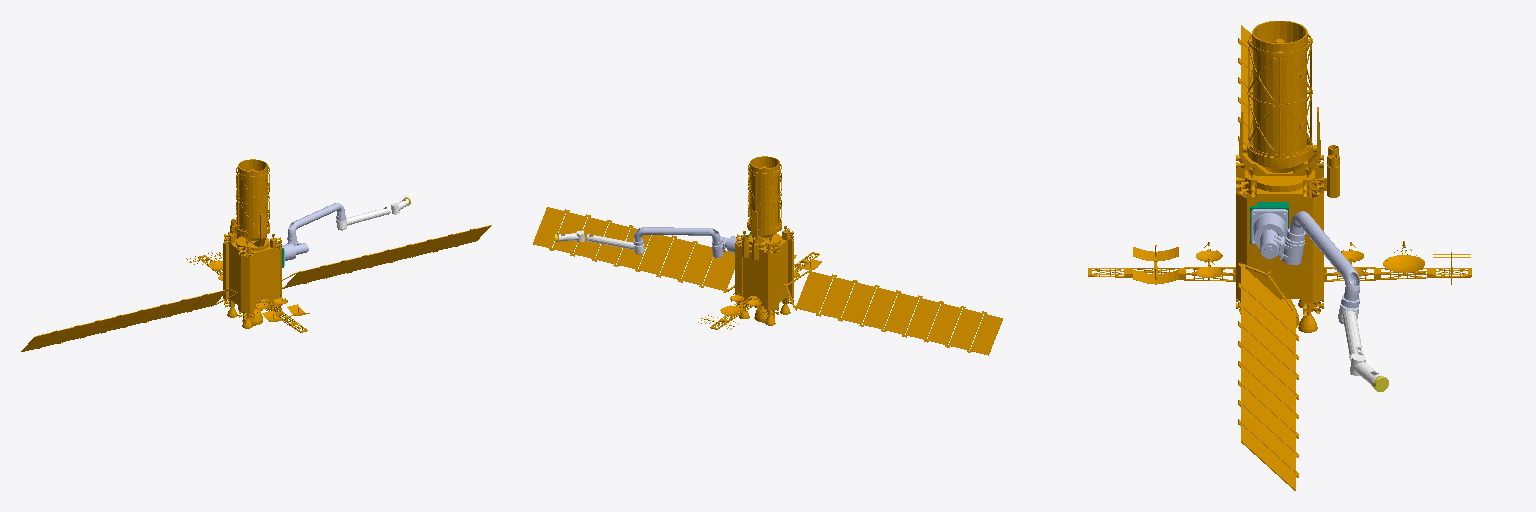
The robot description file, URDF, robot "satellite_sb1__starlink_sldasm9":
<?xml version='1.0' encoding='utf-8'?>
<robot name="satellite_sb1__starlink_sldasm9">
  <link name="base_link">
    <visual>
      <geometry>
        <mesh filename="../satellites/satellite_sb1/satellite.stl" />
      </geometry>
    </visual>
    <collision>
      <geometry>
        <mesh filename="../satellites/satellite_sb1/satellite.stl" />
      </geometry>
    </collision>
  </link>
  <link name="satellite_sb1_mount" />
  <joint name="satellite_mount_fixed" type="fixed">
    <parent link="base_link" />
    <child link="satellite_sb1_mount" />
    <origin xyz="0.3630675039246468 -0.08451072736787024 0.2428048142333857" rpy="3.141592653589793 -1.5707963267948963 0.0" />
  </joint>
  <link name="mount_support">
    <visual>
      <geometry>
        <mesh filename="../satellites/satellite_sb1/mount_support.stl" />
      </geometry>
    </visual>
    <collision>
      <geometry>
        <mesh filename="../satellites/satellite_sb1/mount_support.stl" />
      </geometry>
    </collision>
  </link>
  <joint name="support_fixed" type="fixed">
    <parent link="satellite_sb1_mount" />
    <child link="mount_support" />
    <origin xyz="0 0 0" rpy="0 0 0" />
  </joint>
  <joint name="arm_adapter_fixed" type="fixed">
    <parent link="satellite_sb1_mount" />
    <child link="starlink_space_manipulator_base_link" />
    <origin xyz="0.009087204933166504 0.008519247174263 0.16000000119209293" rpy="-1.5707963267948966 0 0.0" />
  </joint>
  <link name="starlink_space_manipulator_base_link">
    <inertial>
      <origin xyz="-0.00908719924946466 0.0225428225681148 -0.00851924929637313" rpy="0 0 0" />
      <mass value="8.66024015898073" />
      <inertia ixx="0.0960303512697639" ixy="1.65511904636803E-18" ixz="6.22039820639877E-19" iyy="0.103454922260914" iyz="-9.68471289978311E-19" izz="0.0960303512697639" />
    </inertial>
    <visual>
      <origin xyz="0 0 0" rpy="0 0 0" />
      <geometry>
        <mesh filename="../arms/starlink_sldasm9/meshes/starlink_space_manipulator_base_link.STL" />
      </geometry>
      <material name="">
        <color rgba="0.792156862745098 0.819607843137255 0.933333333333333 1" />
      </material>
    </visual>
    <collision>
      <origin xyz="0 0 0" rpy="0 0 0" />
      <geometry>
        <mesh filename="../arms/starlink_sldasm9/meshes/starlink_space_manipulator_base_link.STL" />
      </geometry>
    </collision>
  </link>
  <link name="starlink_space_manipulator_Shoulder_link_1">
    <inertial>
      <origin xyz="-0.000399471745595769 -0.100006574194712 -0.17423940484461" rpy="0 0 0" />
      <mass value="5.16309216784981" />
      <inertia ixx="0.0524543852135592" ixy="0.00348154867667969" ixz="6.96526910910627E-05" iyy="0.0306595326318824" iyz="-0.00056674368052247" izz="0.0439979075615329" />
    </inertial>
    <visual>
      <origin xyz="0 0 0" rpy="0 0 0" />
      <geometry>
        <mesh filename="../arms/starlink_sldasm9/meshes/starlink_space_manipulator_Shoulder_link_1.STL" />
      </geometry>
      <material name="">
        <color rgba="0.792156862745098 0.819607843137255 0.933333333333333 1" />
      </material>
    </visual>
    <collision>
      <origin xyz="0 0 0" rpy="0 0 0" />
      <geometry>
        <mesh filename="../arms/starlink_sldasm9/meshes/starlink_space_manipulator_Shoulder_link_1.STL" />
      </geometry>
    </collision>
  </link>
  <joint name="starlink_space_manipulator_Shoulder_link_1_yaw" type="revolute">
    <origin xyz="-0.0090872 -0.065 -0.0085192" rpy="1.5708 -0.15574 3.1416" />
    <parent link="starlink_space_manipulator_base_link" />
    <child link="starlink_space_manipulator_Shoulder_link_1" />
    <axis xyz="0 0 -1" />
    <limit lower="-3.14" upper="3.14" effort="0" velocity="0" />
  </joint>
  <link name="starlink_space_manipulator_Upper_arm_Link_1">
    <inertial>
      <origin xyz="0.402106341472203 -0.696465272634528 -0.170177523085579" rpy="0 0 0" />
      <mass value="5.05309869040685" />
      <inertia ixx="0.388719013133801" ixy="0.210155896498943" ixz="9.30829370680679E-08" iyy="0.146049057575642" iyz="1.71830458004218E-07" izz="0.500677708275447" />
    </inertial>
    <visual>
      <origin xyz="0 0 0" rpy="0 0 0" />
      <geometry>
        <mesh filename="../arms/starlink_sldasm9/meshes/starlink_space_manipulator_Upper_arm_Link_1.STL" />
      </geometry>
      <material name="">
        <color rgba="0.792156862745098 0.819607843137255 0.933333333333333 1" />
      </material>
    </visual>
    <collision>
      <origin xyz="0 0 0" rpy="0 0 0" />
      <geometry>
        <mesh filename="../arms/starlink_sldasm9/meshes/starlink_space_manipulator_Upper_arm_Link_1.STL" />
      </geometry>
    </collision>
  </link>
  <joint name="starlink_space_manipulator_Upper_arm_Link_1_roll" type="revolute">
    <origin xyz="0 -0.2 -0.18" rpy="1.5708 0.90646 1.5708" />
    <parent link="starlink_space_manipulator_Shoulder_link_1" />
    <child link="starlink_space_manipulator_Upper_arm_Link_1" />
    <axis xyz="0 0 -1" />
    <limit lower="-2" upper="1.5" effort="0" velocity="0" />
  </joint>
  <link name="starlink_space_manipulator_Mid_arm_Link_1">
    <inertial>
      <origin xyz="-0.000406052776441013 0.317722269561105 0.0155331755135703" rpy="0 0 0" />
      <mass value="1.57635531881168" />
      <inertia ixx="0.133610363618846" ixy="5.33750993405138E-05" ixz="-3.60473795202962E-09" iyy="0.00502119434334708" iyz="-2.514275749911E-05" izz="0.134586018527477" />
    </inertial>
    <visual>
      <origin xyz="0 0 0" rpy="0 0 0" />
      <geometry>
        <mesh filename="../arms/starlink_sldasm9/meshes/starlink_space_manipulator_Mid_arm_Link_1.STL" />
      </geometry>
      <material name="">
        <color rgba="1 1 1 1" />
      </material>
    </visual>
    <collision>
      <origin xyz="0 0 0" rpy="0 0 0" />
      <geometry>
        <mesh filename="../arms/starlink_sldasm9/meshes/starlink_space_manipulator_Mid_arm_Link_1.STL" />
      </geometry>
    </collision>
  </link>
  <joint name="starlink_space_manipulator_Mid_arm_Link_1_roll" type="revolute">
    <origin xyz="0.599999999999673 -1.03923048454122 0" rpy="-3.14159265358979 0 0.828250280535091" />
    <parent link="starlink_space_manipulator_Upper_arm_Link_1" />
    <child link="starlink_space_manipulator_Mid_arm_Link_1" />
    <axis xyz="0 0 -1" />
    <limit lower="-3.14" upper="3.14" effort="0" velocity="0" />
  </joint>
  <link name="starlink_space_manipulator_Upper_wrist_Link_1">
    <inertial>
      <origin xyz="-0.000400003664721815 -0.201565878030355 -0.00216705855311664" rpy="0 0 0" />
      <mass value="0.994770641034713" />
      <inertia ixx="0.00165409639029414" ixy="-7.59103925411082E-06" ixz="-3.17403155320863E-06" iyy="0.00201437937768072" iyz="2.63246464091218E-06" izz="0.00159638838344539" />
    </inertial>
    <visual>
      <origin xyz="0 0 0" rpy="0 0 0" />
      <geometry>
        <mesh filename="../arms/starlink_sldasm9/meshes/starlink_space_manipulator_Upper_wrist_Link_1.STL" />
      </geometry>
      <material name="">
        <color rgba="0.792156862745098 0.819607843137255 0.933333333333333 1" />
      </material>
    </visual>
    <collision>
      <origin xyz="0 0 0" rpy="0 0 0" />
      <geometry>
        <mesh filename="../arms/starlink_sldasm9/meshes/starlink_space_manipulator_Upper_wrist_Link_1.STL" />
      </geometry>
    </collision>
  </link>
  <joint name="starlink_space_manipulator_Upper_wrist_Link_1_yaw" type="revolute">
    <origin xyz="-0.00050155183276912 0.686793643713439 0.0155010481432086" rpy="0 -0.0763876794035917 3.14159265358979" />
    <parent link="starlink_space_manipulator_Mid_arm_Link_1" />
    <child link="starlink_space_manipulator_Upper_wrist_Link_1" />
    <axis xyz="0 -1 0" />
    <limit lower="-3.14" upper="3.14" effort="0" velocity="0" />
  </joint>
  <link name="starlink_space_manipulator_Upper_wrist_Link_2">
    <inertial>
      <origin xyz="8.45304168883843E-08 0.0848318719623631 -0.00515657391755576" rpy="0 0 0" />
      <mass value="1.03716823037577" />
      <inertia ixx="0.0100970561498589" ixy="1.32295633551837E-09" ixz="-9.43675929999229E-09" iyy="0.00222325407426665" iyz="-2.08772874866187E-06" izz="0.0105840577017538" />
    </inertial>
    <visual>
      <origin xyz="0 0 0" rpy="0 0 0" />
      <geometry>
        <mesh filename="../arms/starlink_sldasm9/meshes/starlink_space_manipulator_Upper_wrist_Link_2.STL" />
      </geometry>
      <material name="">
        <color rgba="1 1 1 1" />
      </material>
    </visual>
    <collision>
      <origin xyz="0 0 0" rpy="0 0 0" />
      <geometry>
        <mesh filename="../arms/starlink_sldasm9/meshes/starlink_space_manipulator_Upper_wrist_Link_2.STL" />
      </geometry>
    </collision>
  </link>
  <joint name="starlink_space_manipulator_Upper_wrist_Link_2_roll" type="revolute">
    <origin xyz="0 -0.30020635628656 0" rpy="-0.0158640776811277 -0.0317448426184613 -2.67805461574742" />
    <parent link="starlink_space_manipulator_Upper_wrist_Link_1" />
    <child link="starlink_space_manipulator_Upper_wrist_Link_2" />
    <axis xyz="0 0 1" />
    <limit lower="-2.5" upper="1.8" effort="0" velocity="0" />
  </joint>
  <link name="starlink__space_manipulator_2F-Body_Link">
    </link>
  <joint name="starlink__space_manipulator_2F-Body_Link_yaw" type="revolute">
    <origin xyz="0 0.34845 -0.0053813" rpy="-3.1416 0.93592 0" />
    <parent link="starlink_space_manipulator_Upper_wrist_Link_2" />
    <child link="starlink__space_manipulator_2F-Body_Link" />
    <axis xyz="0 -1 0" />
    <limit lower="-3.14" upper="3.14" effort="0" velocity="0" />
  </joint>
  <link name="angular_hand">
    <visual>
      <geometry>
        <mesh filename="../arms/starlink_sldasm9/meshes/hand_2finger.STL" scale="2 2 2" />
      </geometry>
    </visual>
    <collision>
      <geometry>
        <mesh filename="../arms/starlink_sldasm9/meshes/hand_2finger.STL" scale="2 2 2" />
      </geometry>
    </collision>
  </link>
  <joint name="angular_hand_fixed" type="fixed">
    <parent link="starlink__space_manipulator_2F-Body_Link" />
    <child link="angular_hand" />
    <origin xyz="0 -0.036 0" rpy="-1.5707963267948966 0 0" />
  </joint>
  <link name="angular_adapter">
    <visual>
      <geometry>
        <mesh filename="../arms/starlink_sldasm9/meshes/angular_adapter.stl" />
      </geometry>
    </visual>
    <collision>
      <geometry>
        <mesh filename="../arms/starlink_sldasm9/meshes/angular_adapter.stl" />
      </geometry>
    </collision>
  </link>
  <joint name="angular_adapter_fixed" type="fixed">
    <parent link="starlink__space_manipulator_2F-Body_Link" />
    <child link="angular_adapter" />
    <origin xyz="0 -0.0005 0" rpy="1.5707963267948966 0 0" />
  </joint>
  <link name="angular_finger_1">
    <visual>
      <geometry>
        <mesh filename="../arms/starlink_sldasm9/meshes/finger_proximal.STL" scale="2 2 2" />
      </geometry>
    </visual>
    <collision>
      <geometry>
        <mesh filename="../arms/starlink_sldasm9/meshes/finger_proximal.STL" scale="2 2 2" />
      </geometry>
    </collision>
  </link>
  <link name="angular_tip_1">
    <visual>
      <geometry>
        <mesh filename="../arms/starlink_sldasm9/meshes/finger_distal.STL" scale="2 2 2" />
      </geometry>
    </visual>
    <collision>
      <geometry>
        <mesh filename="../arms/starlink_sldasm9/meshes/finger_distal.STL" scale="2 2 2" />
      </geometry>
    </collision>
  </link>
  <joint name="angular_joint_1" type="revolute">
    <parent link="angular_hand" />
    <child link="angular_finger_1" />
    <axis xyz="0 0 1" />
    <origin xyz="-0.005 0.0619 -0.22964" rpy="-1.570796327 .649262481663582 1.5707963267948966" />
    <limit lower="0" upper="1.51" effort="2" velocity="1" />
  </joint>
  <joint name="angular_joint_tip_1" type="revolute">
    <parent link="angular_finger_1" />
    <child link="angular_tip_1" />
    <axis xyz="0 0 1" />
    <origin xyz="0.088 -0.006 0.0" rpy="0 0 0" />
    <limit lower="0" upper="2" effort="2" velocity="1" />
  </joint>
  <link name="angular_finger_2">
    <visual>
      <geometry>
        <mesh filename="../arms/starlink_sldasm9/meshes/finger_proximal.STL" scale="2 2 2" />
      </geometry>
    </visual>
    <collision>
      <geometry>
        <mesh filename="../arms/starlink_sldasm9/meshes/finger_proximal.STL" scale="2 2 2" />
      </geometry>
    </collision>
  </link>
  <link name="angular_tip_2">
    <visual>
      <geometry>
        <mesh filename="../arms/starlink_sldasm9/meshes/finger_distal.STL" scale="2 2 2" />
      </geometry>
    </visual>
    <collision>
      <geometry>
        <mesh filename="../arms/starlink_sldasm9/meshes/finger_distal.STL" scale="2 2 2" />
      </geometry>
    </collision>
  </link>
  <joint name="angular_joint_2" type="revolute">
    <parent link="angular_hand" />
    <child link="angular_finger_2" />
    <axis xyz="0 0 1" />
    <origin xyz="-0.005 -0.0619 -0.22964" rpy="-1.570796327 .649262481663582 -1.5707963267948966" />
    <limit lower="0" upper="1.51" effort="2" velocity="1" />
  </joint>
  <joint name="angular_joint_tip_2" type="revolute">
    <parent link="angular_finger_2" />
    <child link="angular_tip_2" />
    <axis xyz="0 0 1" />
    <origin xyz="0.088 -0.006 0.0" rpy="0 0 0" />
    <limit lower="0" upper="2" effort="2" velocity="1" />
  </joint>
  <link name="angular_tcp" />
  <joint name="angular_tcp_fixed" type="fixed">
    <parent link="angular_hand" />
    <child link="angular_tcp" />
    <origin xyz="-0.005 0 -0.34" rpy="3.141592653589793 0 0" />
  </joint>
</robot>

--- What the picture shows (computed from the rendered views, not written in the file) ---
Views: 3 orthographic renders of the robot side by side, from view 1: azimuth 30°, elevation 25°; view 2: azimuth 150°, elevation 25°; view 3: azimuth 270°, elevation 25°.
Robot: satellite_sb1__starlink_sldasm9 — 17 links, 16 joints (10 revolute, 6 fixed); root link base_link; default pose: every joint at zero.
Visible links, largest first — view 1: base_link, starlink_space_manipulator_Upper_arm_Link_1; view 2: base_link, starlink_space_manipulator_Upper_arm_Link_1; view 3: base_link, starlink_space_manipulator_Upper_arm_Link_1, starlink_space_manipulator_Shoulder_link_1, starlink_space_manipulator_base_link, starlink_space_manipulator_Mid_arm_Link_1.
Link boxes in pixels (x1,y1,x2,y2): base_link: [21, 159, 491, 351]; starlink_space_manipulator_Upper_arm_Link_1: [288, 203, 346, 237]; base_link: [533, 156, 1002, 355]; starlink_space_manipulator_Upper_arm_Link_1: [634, 227, 720, 254]; base_link: [1088, 21, 1471, 490]; starlink_space_manipulator_Upper_arm_Link_1: [1290, 211, 1359, 323]; starlink_space_manipulator_Shoulder_link_1: [1260, 228, 1305, 264]; starlink_space_manipulator_base_link: [1251, 209, 1287, 248]; starlink_space_manipulator_Mid_arm_Link_1: [1338, 303, 1363, 360].
Bounding box of the posed robot: 8 × 3.12 × 2.61 m (x, y, z).
8 mesh visuals loaded from 12 distinct referenced files (8 binary STL); not drawn: 6 (reference not matched to a file when rendering).
